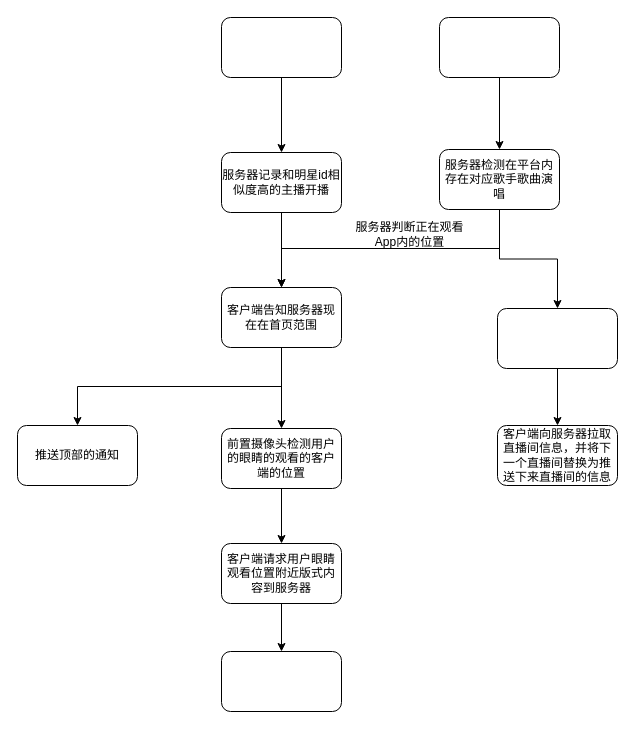
The diagram is 635 pixels wide and 729 high, and some of its shapes have lost their labels. The shapes that lost their labels are listed below. From the top down, each one's centre as x and y in pixels, then its label:
At point (281, 47): "服务器用户电影频道或电视剧长时间观看留下的记录".
At point (499, 47): "服务器记录用户在那个歌曲演唱期间打赏过".
At point (557, 338): "客户端告知服务器现在在直播间范围".
At point (281, 681): "服务器下发对应的数据体到客户端，客户端更新附近的观看栅格，让用户能够感知".
